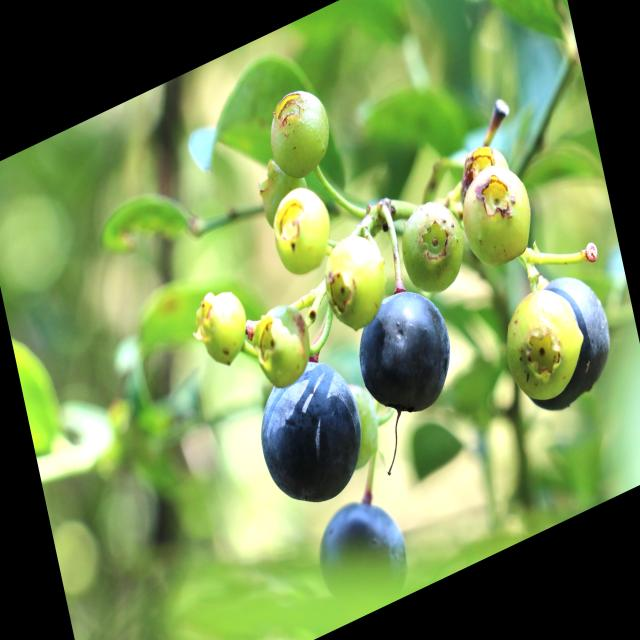blueberry: (247, 342, 373, 531), (500, 260, 620, 430), (347, 273, 462, 437), (306, 474, 419, 630)
blueberry-unripe: (495, 273, 589, 411), (455, 155, 538, 275), (394, 189, 470, 303), (261, 76, 337, 182), (319, 224, 390, 336), (264, 176, 337, 282), (250, 295, 317, 395), (195, 283, 252, 375)
